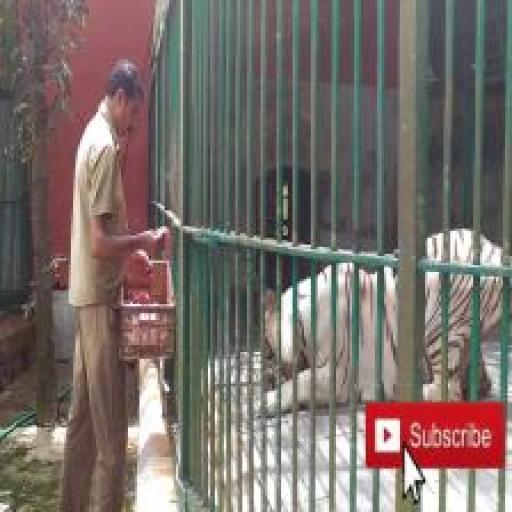Tiger: (233, 206, 512, 443)
